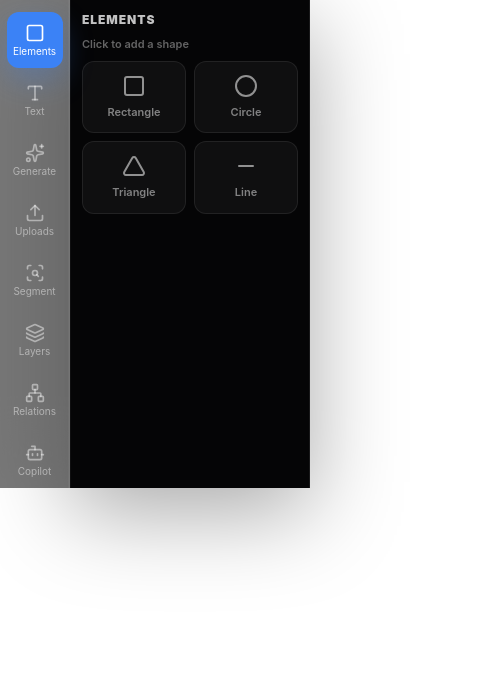
Test: LeftSidebar relations › rejects non-image selections in Auto Segment
Click the button "Segment" at [34, 280], box [6,252,62,308]
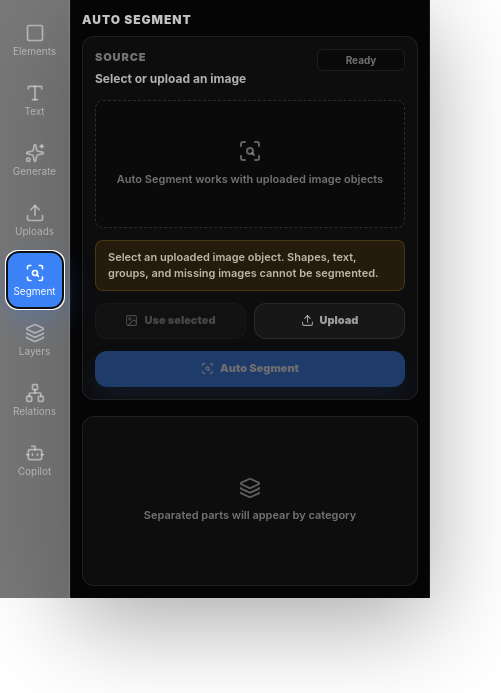
Check: the text "Shapes, text, groups, and missing images cannot be segmented" is shown, box [108,250,378,280]
Check: the button "Auto Segment" is disabled, box [95,350,405,386]
